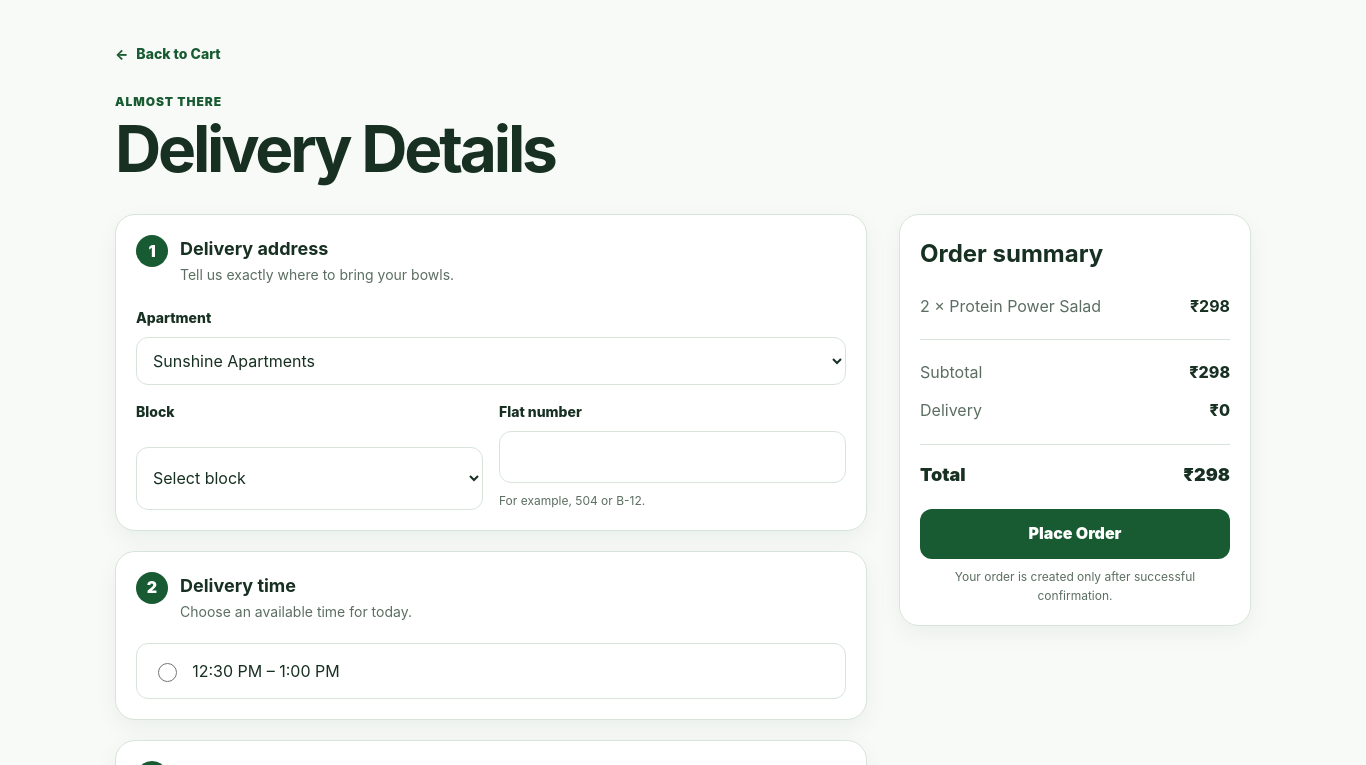
Test: CheckoutPageComponent › should show accessible validation without creating an order
Click the submit button at [1075, 534], box [920,509,1230,559]
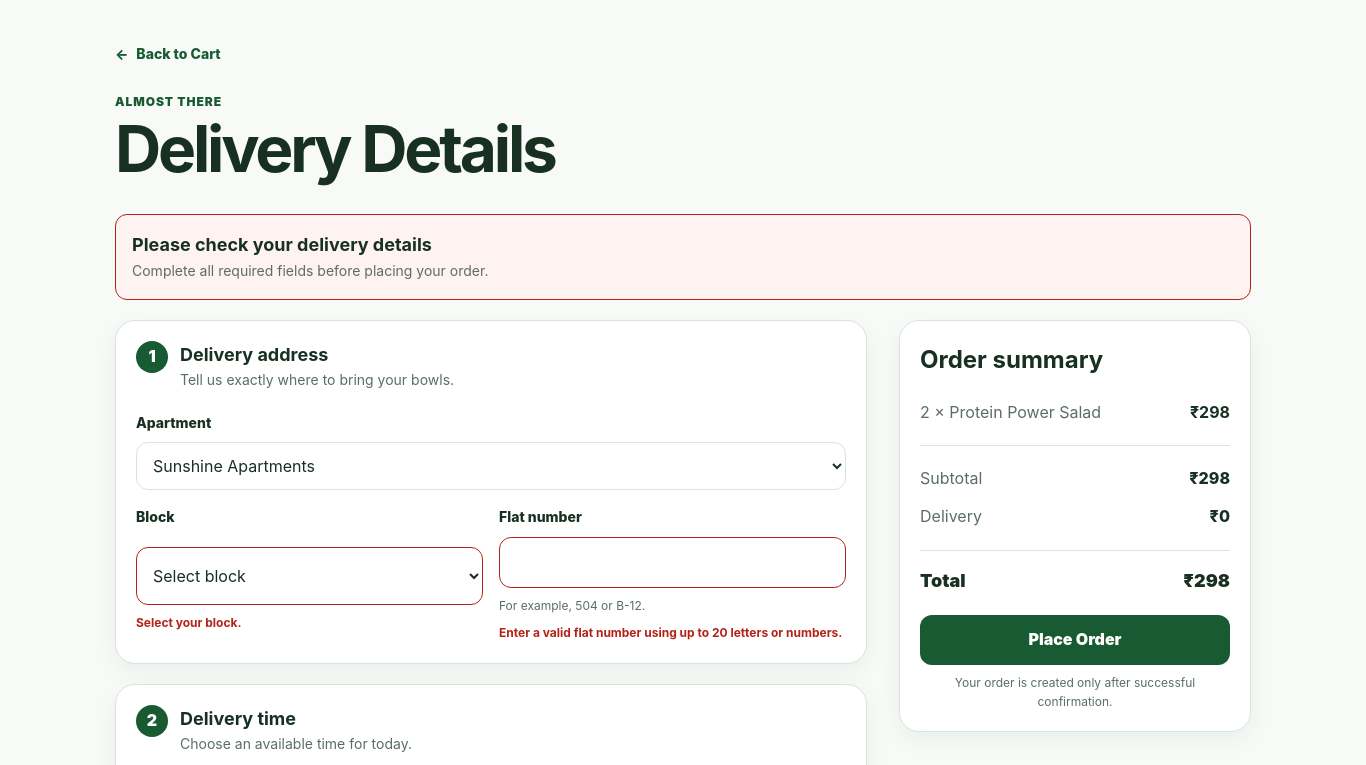
Expected: the message with class "error-summary" is shown, [115,214,1251,300]
Expected: the text "Select your block" is shown, [136,615,242,630]
